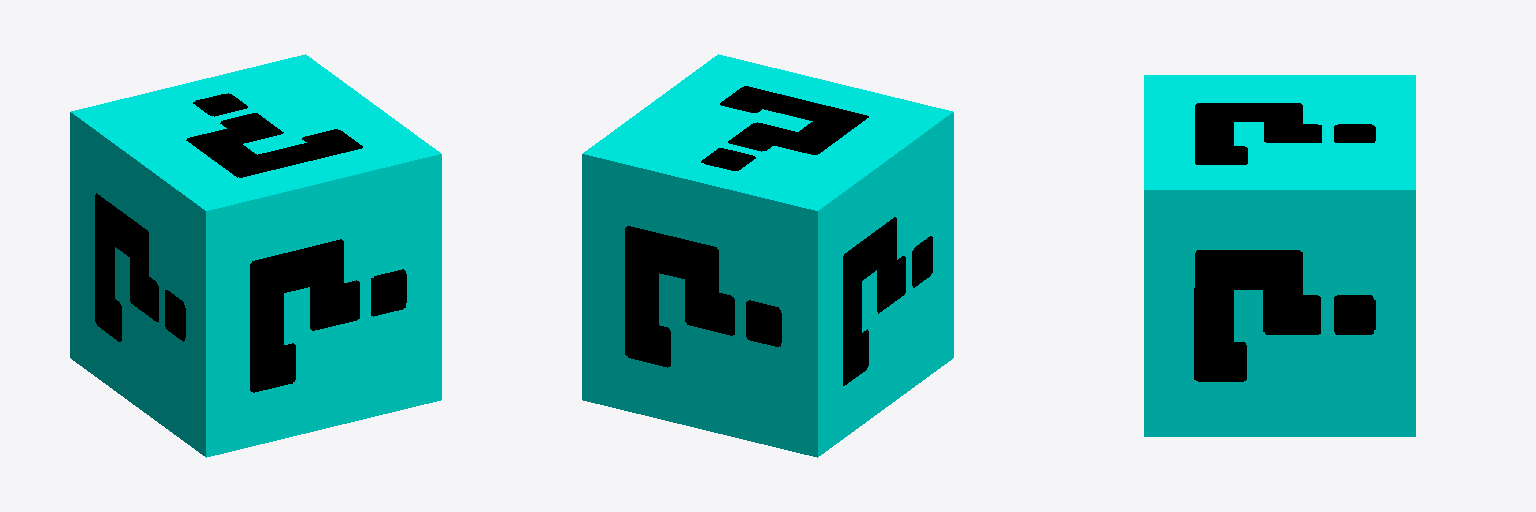
3 renders of one model, left to right at view 1: azimuth 30°, elevation 25°; view 2: azimuth 150°, elevation 25°; view 3: azimuth 270°, elevation 25°, orthographic.
Visible parts, largest first — view 1: Cube; view 2: Cube; view 3: Cube.
Boxes of the visible parts, <box> form: Cube: <box>70,54,441,457</box>; Cube: <box>582,54,953,457</box>; Cube: <box>1144,75,1415,436</box>.
Bounding box in the file's own units: 1 × 1 × 1.
Materials: 1 (1 with a texture image).